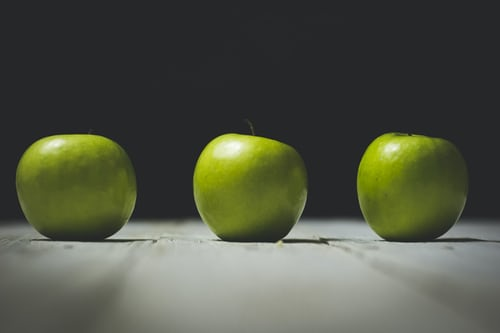apple: (185, 116, 311, 245), (13, 125, 139, 243), (353, 125, 469, 244)
